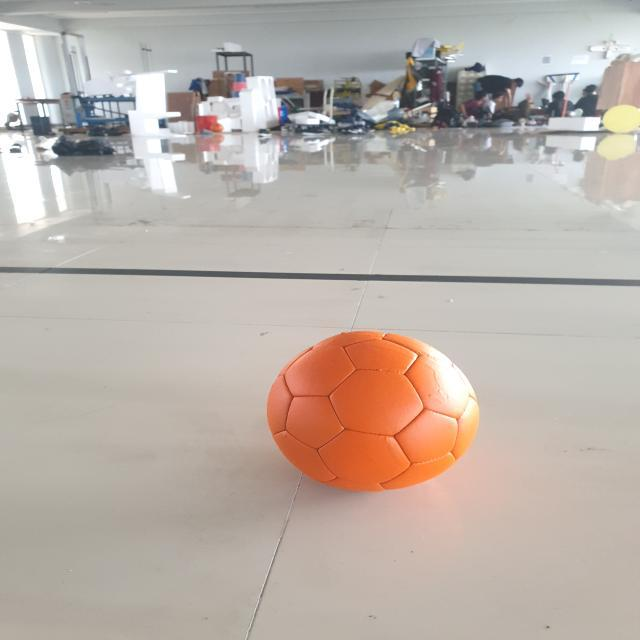bola: (255, 314, 489, 510)
